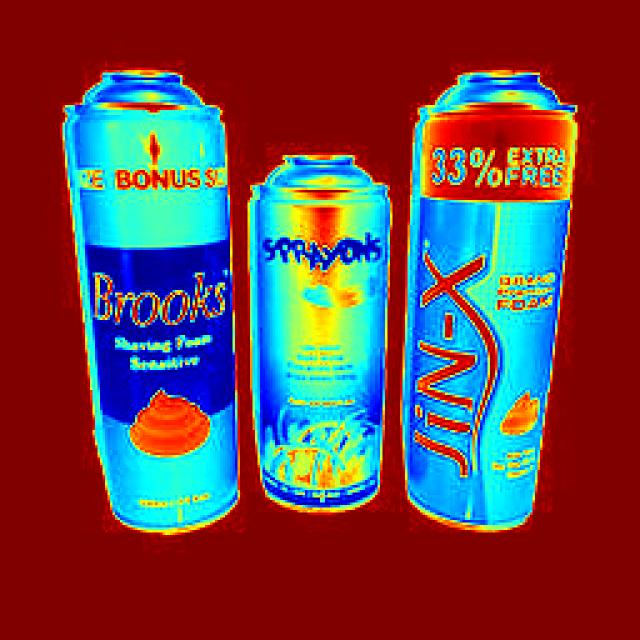Aerosol Cans: (50, 51, 247, 542), (406, 46, 580, 528), (247, 136, 401, 507)
